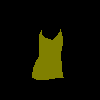canottiera: (32, 28, 64, 80)
